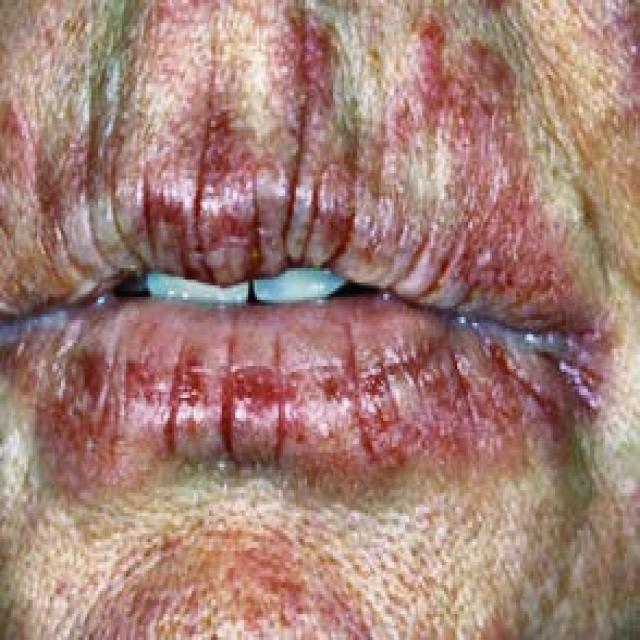Eczema: (19, 34, 626, 559)
